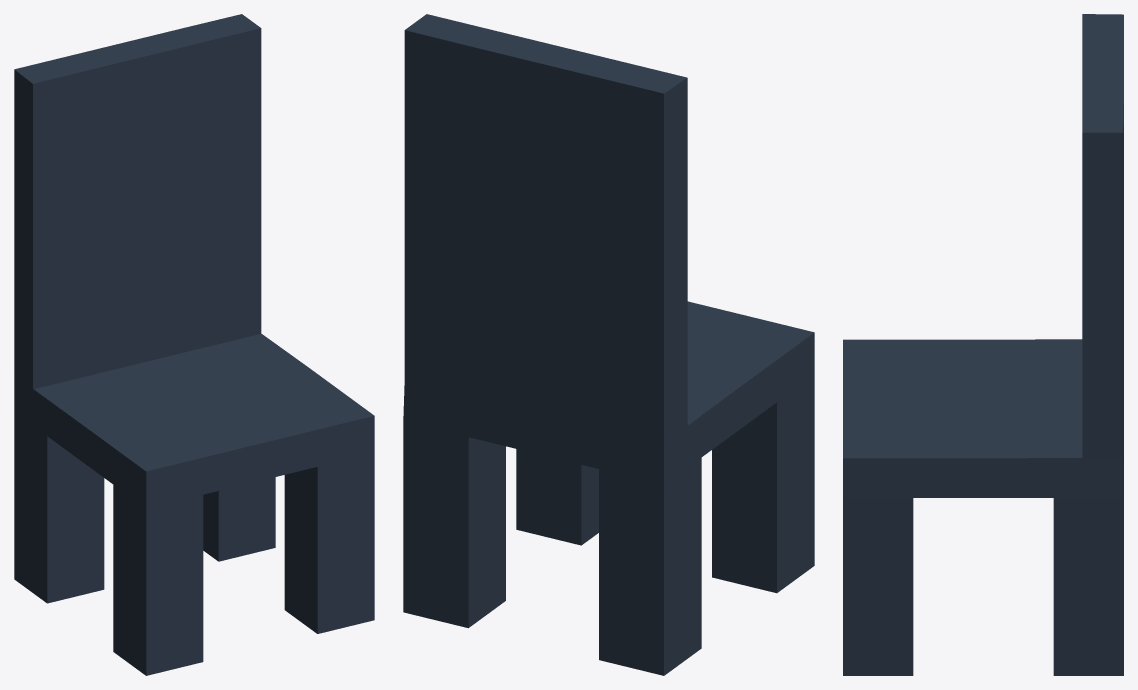
File: chaise.glb
3 renders of one model, left to right at view 1: azimuth 30°, elevation 25°; view 2: azimuth 150°, elevation 25°; view 3: azimuth 270°, elevation 25°, orthographic. The views are drawn at different scales.
Parts seen in each view (by area): view 1: Cube; view 2: Cube; view 3: Cube.
Boxes of the visible parts, left/top/right/bottom form: Cube: left=14, top=14, right=374, bottom=675; Cube: left=403, top=14, right=814, bottom=675; Cube: left=843, top=14, right=1123, bottom=675.
Bounding box in the file's own units: 2.01 × 4.27 × 2.
Materials: 1 (1 with a texture image).
